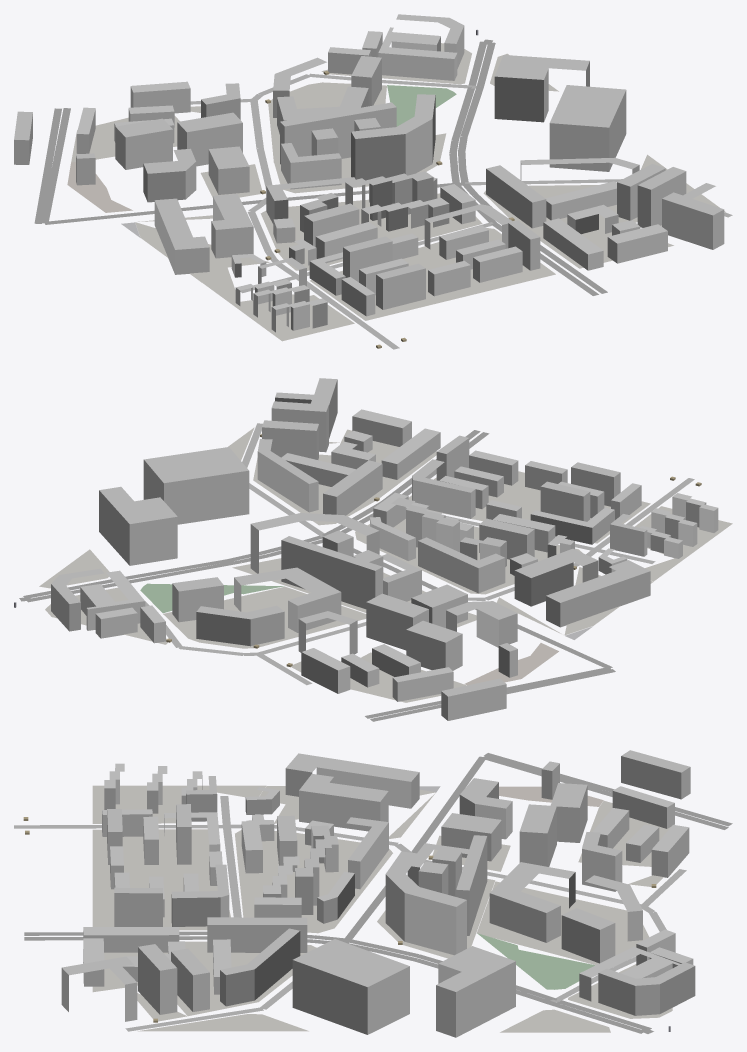
3 views of the same model, one above another, from view 1: azimuth 30°, elevation 25°; view 2: azimuth 150°, elevation 25°; view 3: azimuth 270°, elevation 25° (orthographic). The views are drawn at different scales.
Size of the model in its own units: 581 by 48.23 by 620.
